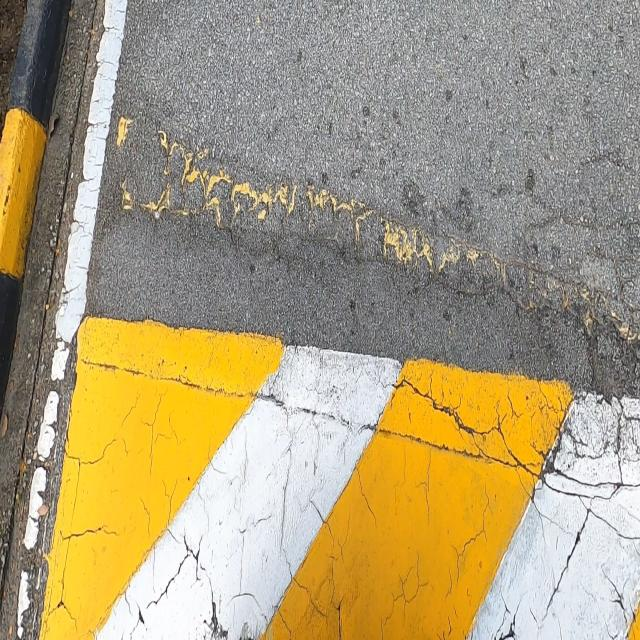Retak-Melintang: (75, 353, 640, 490), (501, 436, 628, 503), (395, 378, 511, 444)
